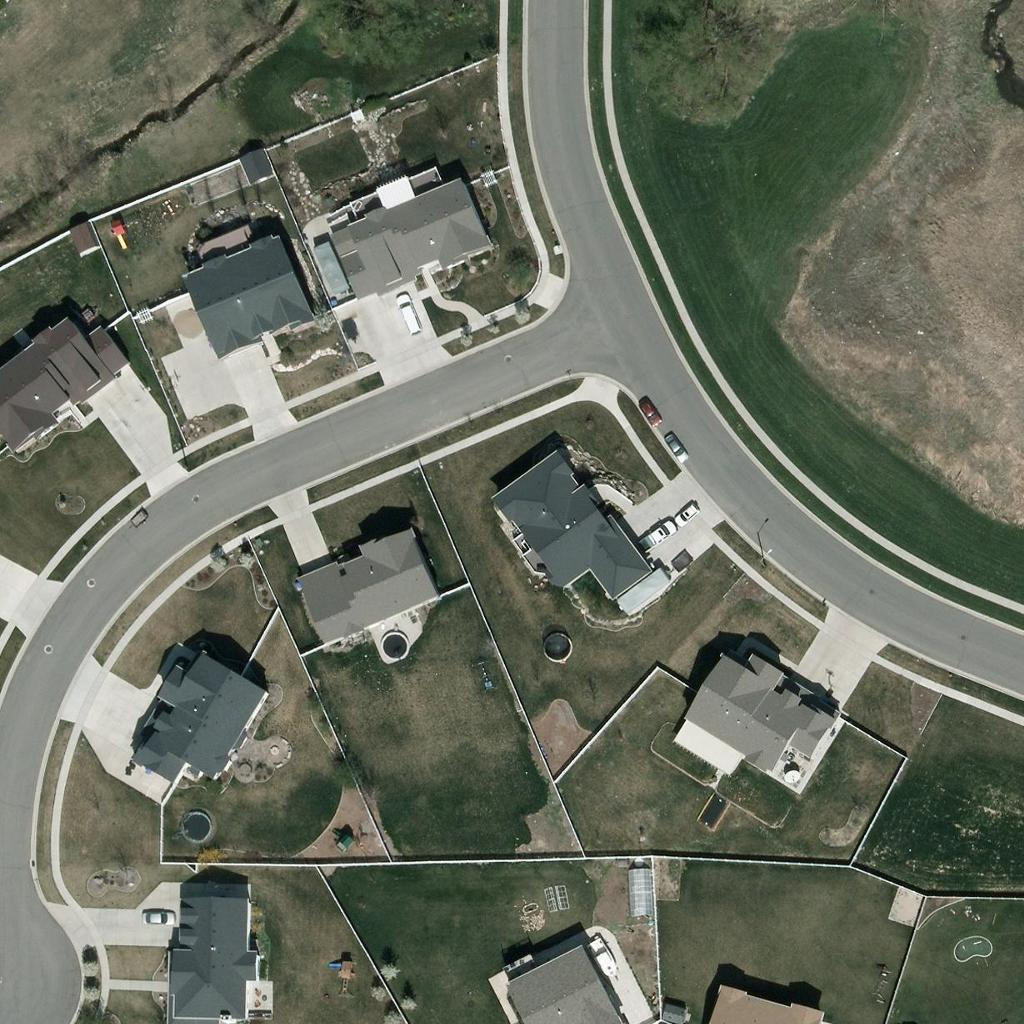car: (390, 294, 424, 328), (631, 393, 665, 427), (656, 428, 690, 462), (670, 495, 704, 529), (640, 515, 674, 549), (138, 900, 172, 934)
